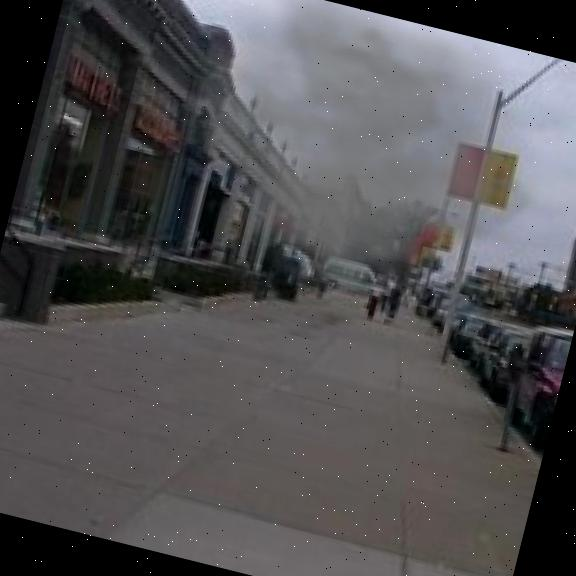smoke: (120, 0, 576, 379)
